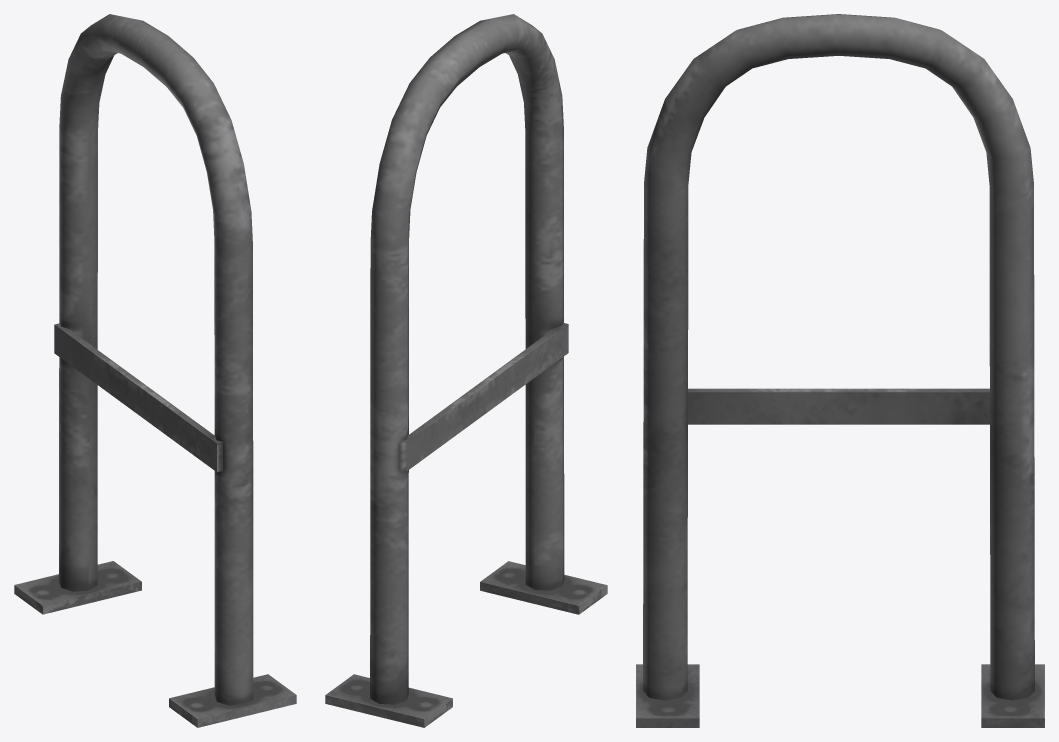
The model's file is MB_Bicycle_Parking_01.fbx.
3 views of the same model, side by side, from view 1: azimuth 30°, elevation 25°; view 2: azimuth 150°, elevation 25°; view 3: azimuth 270°, elevation 25° (orthographic). The views are drawn at different scales.
Parts seen in each view (by area): view 1: MB_Bicycle_Parking_01_LOD0; view 2: MB_Bicycle_Parking_01_LOD0; view 3: MB_Bicycle_Parking_01_LOD0.
Boxes of the visible parts, left/top/right/bottom form: MB_Bicycle_Parking_01_LOD0: left=14, top=14, right=296, bottom=727; MB_Bicycle_Parking_01_LOD0: left=325, top=14, right=607, bottom=727; MB_Bicycle_Parking_01_LOD0: left=636, top=14, right=1044, bottom=727.
Size of what is drawn, in the model's own units: 15.47 by 91.83 by 49.56.
